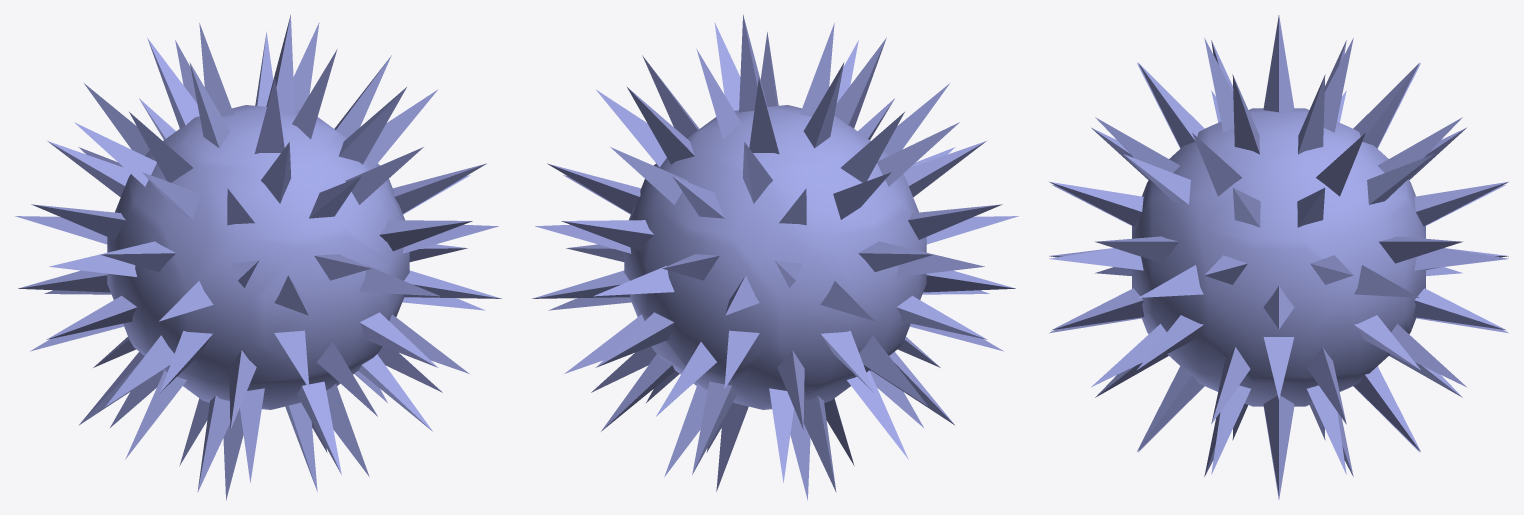
The model's file is GADE Spiky snowball.fbx.
3 renders of one model, left to right at view 1: azimuth 30°, elevation 25°; view 2: azimuth 150°, elevation 25°; view 3: azimuth 270°, elevation 25°, orthographic.
Parts seen in each view (by area): view 1: Icosphere; view 2: Icosphere; view 3: Icosphere.
Boxes of the visible parts, x1,y1,x2,y2 form: Icosphere: [15, 14, 501, 500]; Icosphere: [532, 14, 1018, 500]; Icosphere: [1049, 15, 1508, 499].
Bounding box in the file's own units: 368 × 352 × 350.
